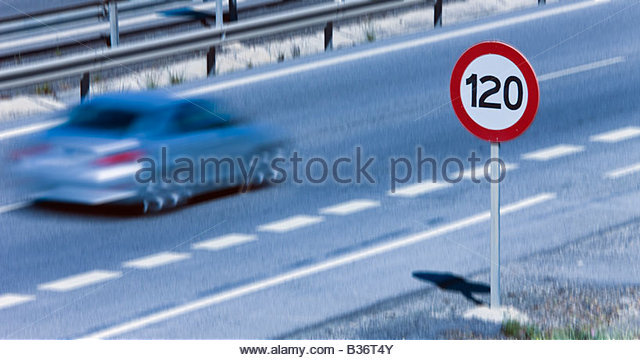Speed_limit_120km: (447, 40, 541, 143)
